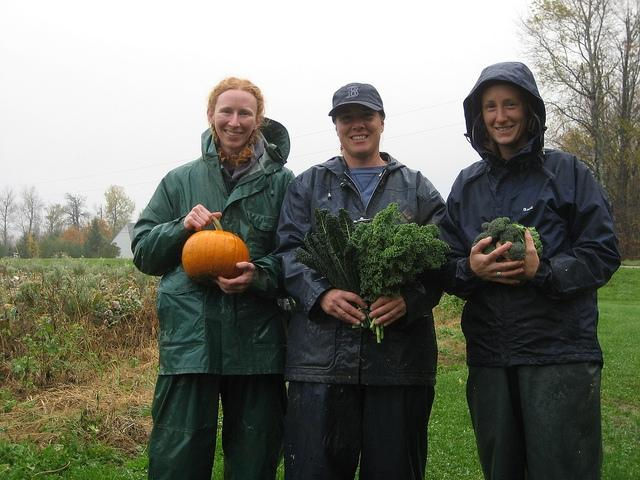broccoli: (488, 217, 510, 240), (499, 224, 522, 245), (508, 242, 526, 260), (481, 244, 496, 254), (532, 231, 540, 243)
pumpkin: (181, 214, 250, 286)
